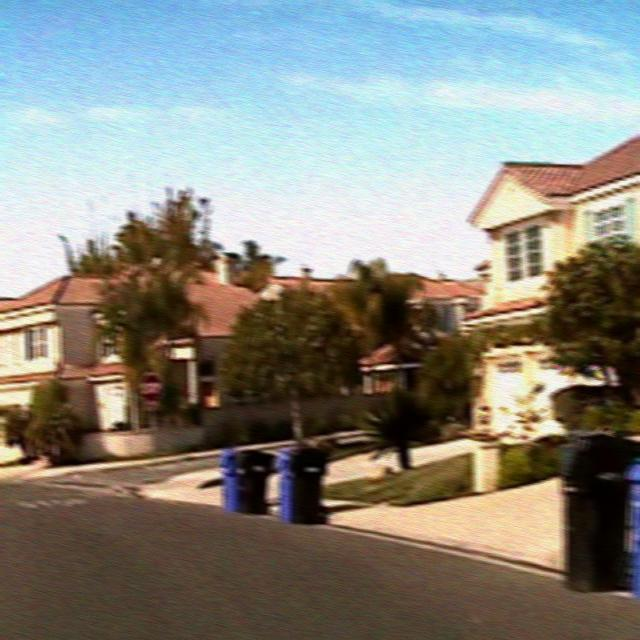stop: (137, 371, 163, 404)
